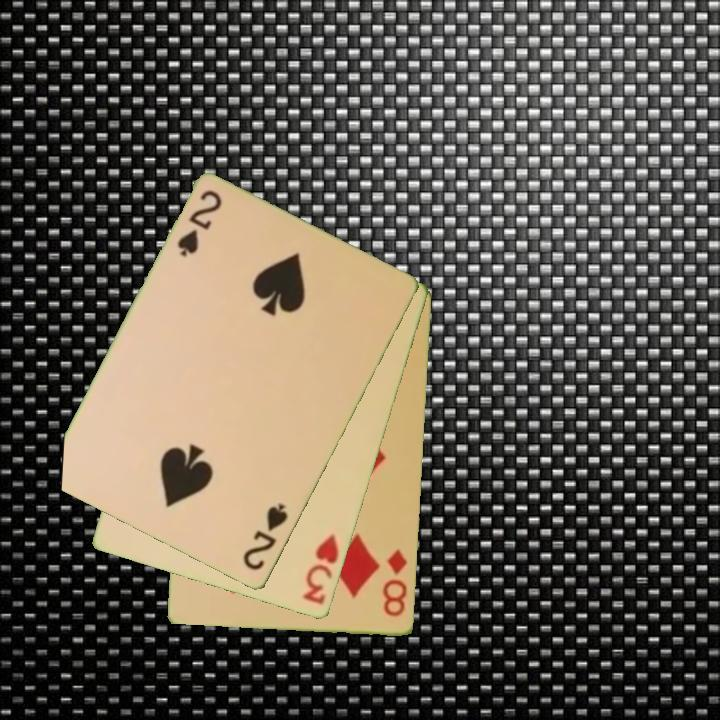2s: (173, 187, 225, 261), (240, 500, 291, 574)
3h: (299, 531, 342, 608)
8d: (380, 546, 411, 620)
